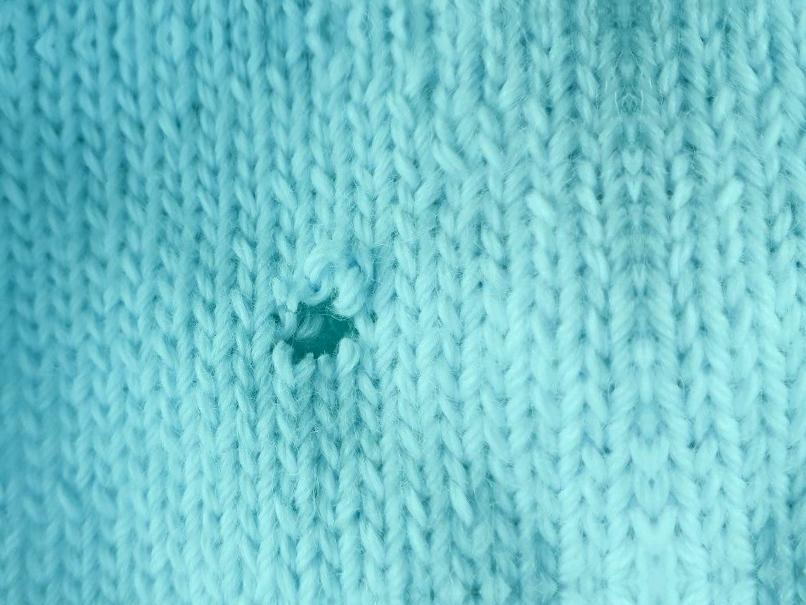hole: (268, 291, 373, 372)
